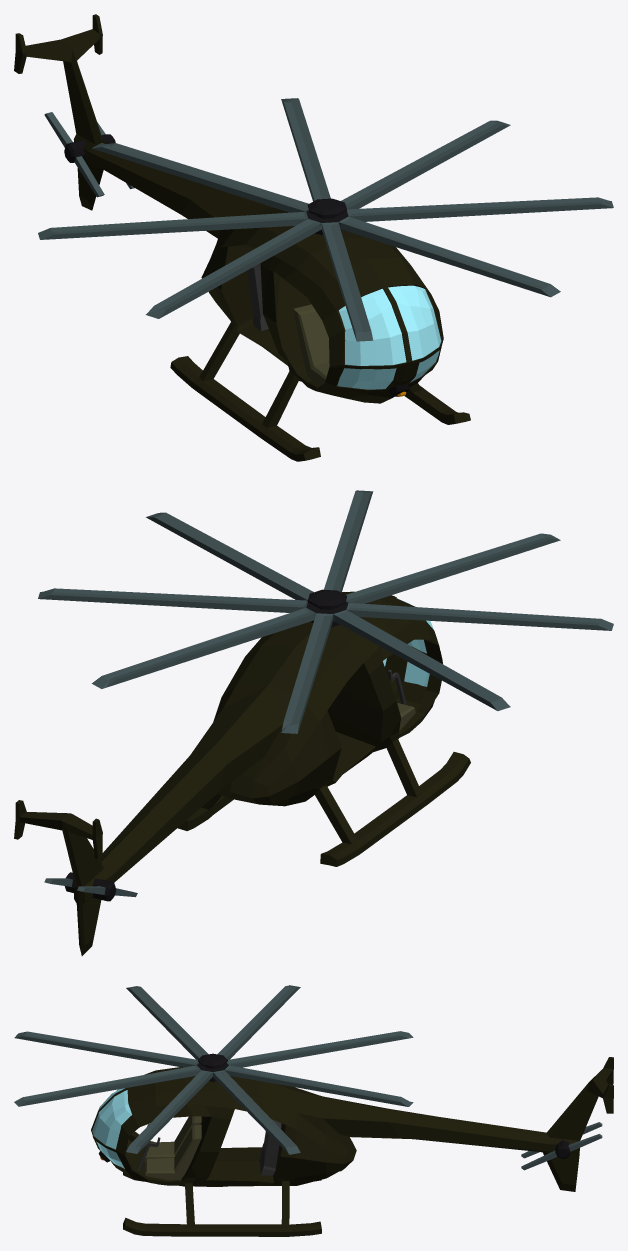
The model's file is helicopter.obj.
3 views of the same model, one above another, from view 1: azimuth 30°, elevation 25°; view 2: azimuth 150°, elevation 25°; view 3: azimuth 270°, elevation 25° (orthographic). The views are drawn at different scales.
Parts seen in each view (by area): view 1: Plane; view 2: Plane; view 3: Plane.
Boxes of the visible parts, box(x1,y1,x2,y2) form: Plane: box(14, 14, 613, 461); Plane: box(14, 490, 613, 955); Plane: box(14, 985, 613, 1236).
Bounding box in the file's own units: 4 × 1.64 × 5.97.
